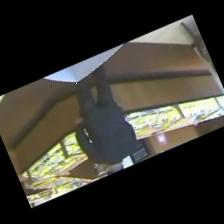person: (75, 65, 137, 174)
